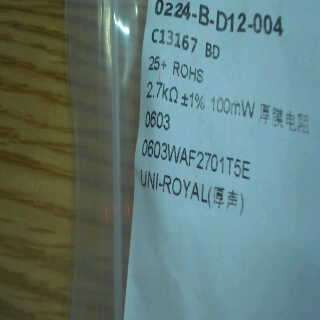2.7kR: (143, 78, 180, 108)
